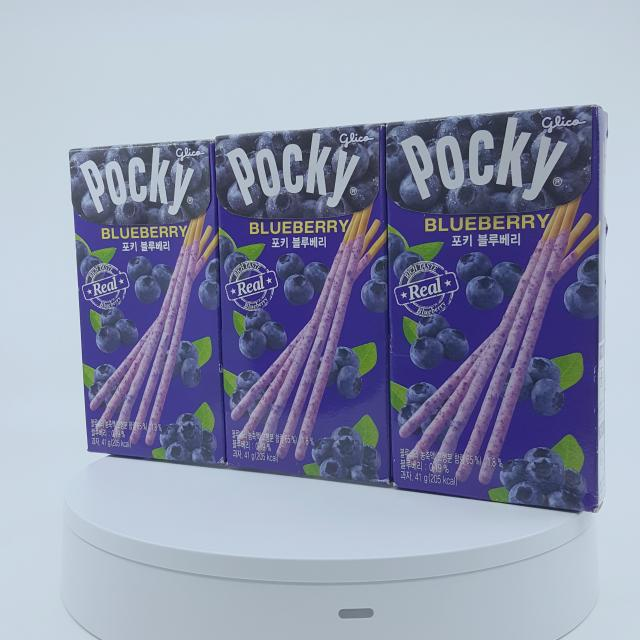-41G: (386, 105, 609, 514), (215, 123, 413, 486), (69, 140, 239, 467)
